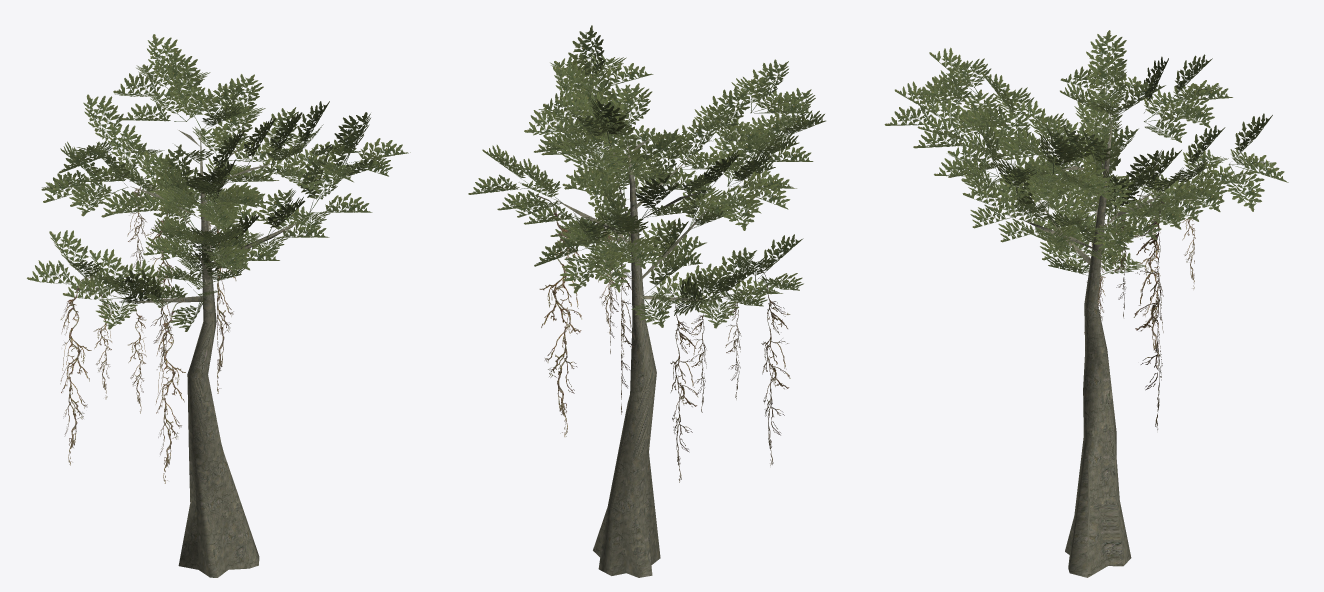
File: copal.glb
The picture shows the model from 3 angles, left to right: view 1: azimuth 30°, elevation 25°; view 2: azimuth 150°, elevation 25°; view 3: azimuth 270°, elevation 25°; orthographic projection.
Visible parts, largest first — view 1: copal; view 2: copal; view 3: copal.
Boxes of the visible parts, x1,y1,x2,y2 form: copal: (27, 34, 410, 577); copal: (468, 25, 825, 577); copal: (884, 30, 1288, 577).
Bounding box in the file's own units: 10.42 × 14.55 × 11.29.
Materials: 3 (3 with a texture image).
